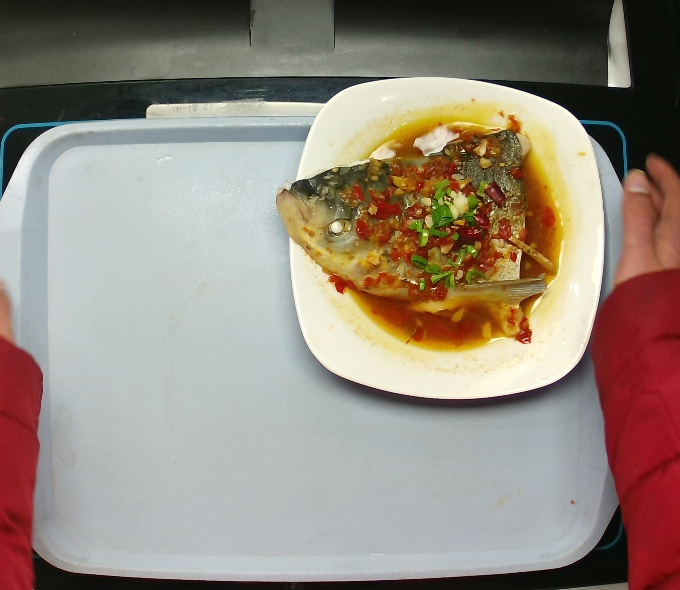wcq-DuoJiaoYuTou: (271, 103, 574, 361)
